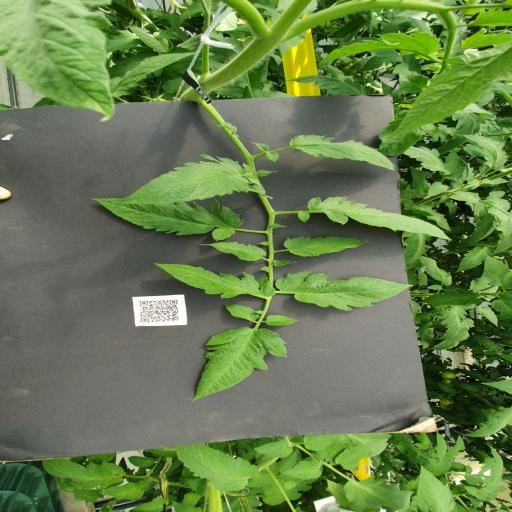Healthy: (0, 0, 115, 123), (384, 40, 512, 140), (191, 327, 288, 402), (298, 196, 451, 242), (116, 154, 256, 204), (91, 197, 245, 242), (273, 271, 414, 311), (288, 133, 398, 172), (175, 443, 261, 492), (154, 264, 274, 298), (319, 32, 442, 64), (112, 52, 196, 98), (42, 458, 125, 490), (464, 442, 507, 502), (343, 476, 414, 512), (409, 465, 458, 512), (426, 305, 476, 351), (453, 133, 509, 171), (284, 235, 370, 258), (287, 74, 379, 95), (452, 406, 512, 437), (335, 441, 389, 472), (404, 145, 452, 175), (198, 242, 267, 261), (420, 288, 484, 307), (488, 205, 512, 255), (460, 29, 512, 50), (482, 254, 512, 289), (403, 231, 431, 268), (453, 246, 491, 273), (420, 256, 453, 286), (98, 482, 146, 501), (281, 460, 323, 480), (254, 440, 294, 458), (397, 72, 428, 94), (409, 165, 432, 194), (224, 303, 259, 322), (302, 434, 342, 450), (471, 334, 505, 352), (127, 497, 167, 512), (422, 180, 450, 198), (478, 306, 498, 327), (450, 191, 481, 204), (266, 314, 299, 326), (128, 455, 154, 467)
